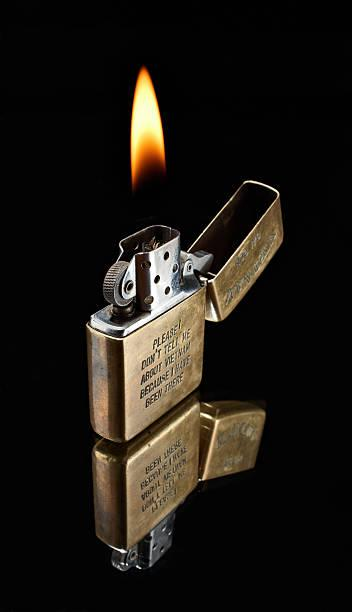Fire: (124, 65, 174, 223)
